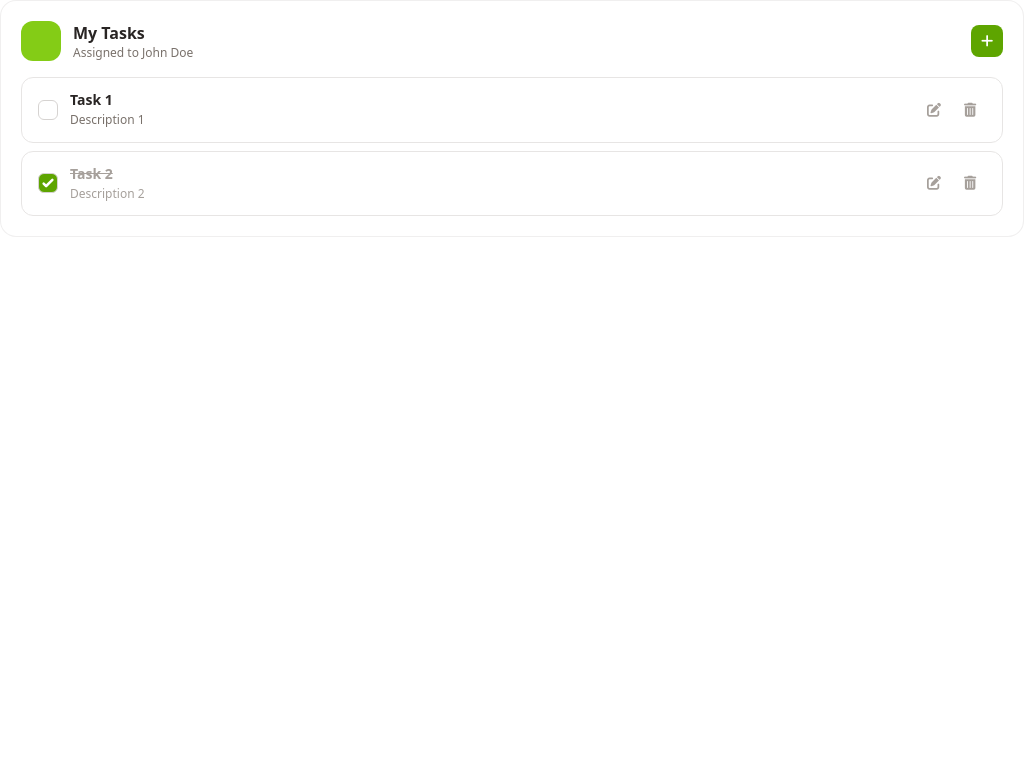
Test: TaskSection › opens create modal when Add Task button is clicked
Click the button named "Add task".
click(987, 41)  # box [971, 25, 1003, 57]
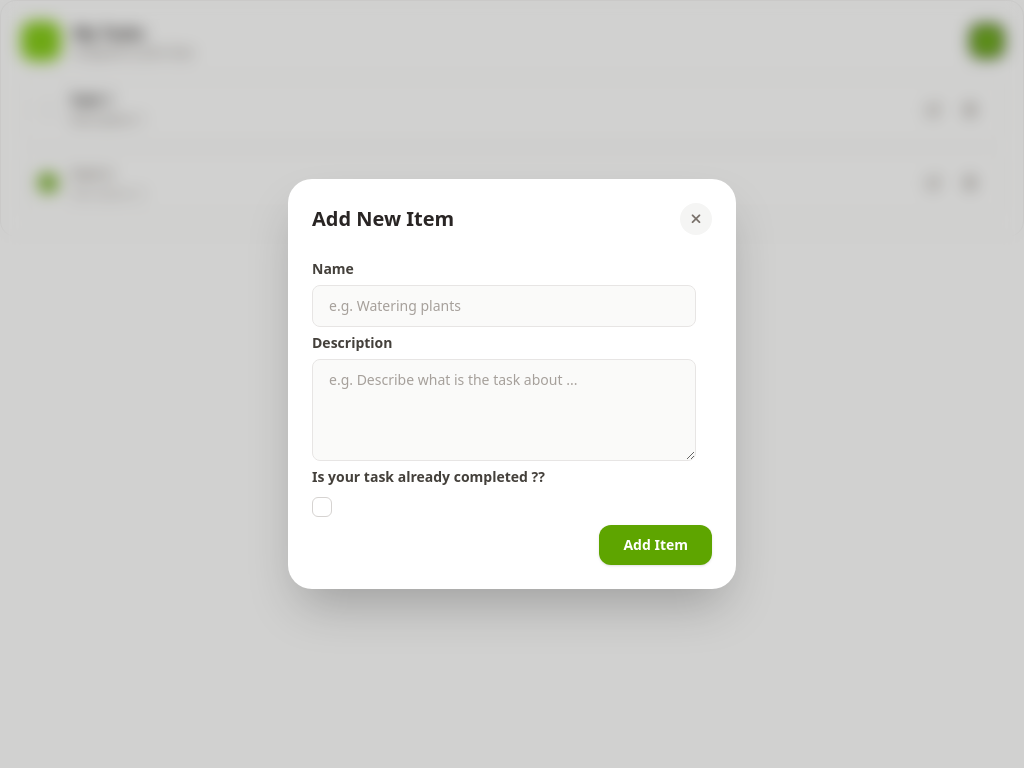
Now the heading "Add New Item" is shown, box [312, 205, 454, 233]
